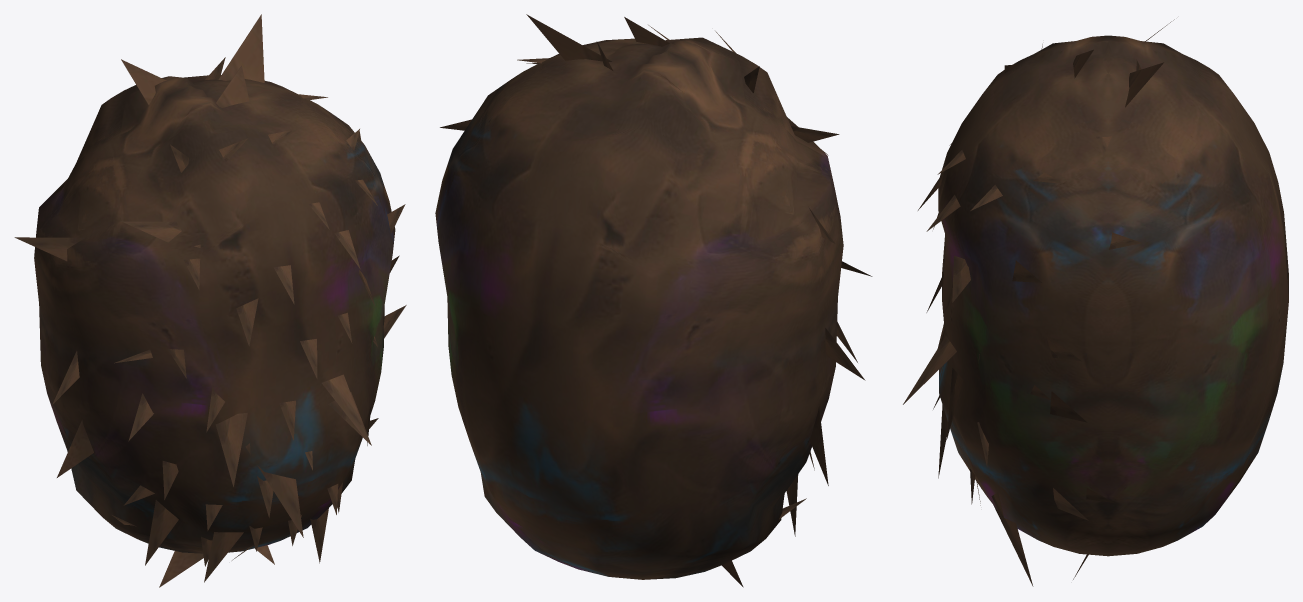
Rendered from mKiwiPourri.FBX.
The picture shows the model from 3 angles, left to right: view 1: azimuth 30°, elevation 25°; view 2: azimuth 150°, elevation 25°; view 3: azimuth 270°, elevation 25°; orthographic projection. The views are drawn at different scales.
Visible parts, largest first — view 1: Kiwi_Positif001; view 2: Kiwi_Positif001; view 3: Kiwi_Positif001.
Boxes of the visible parts, x1,y1,x2,y2 form: Kiwi_Positif001: [14, 14, 406, 587]; Kiwi_Positif001: [435, 14, 872, 587]; Kiwi_Positif001: [903, 19, 1288, 586].
Size of the model in its own units: 1.28 by 1.69 by 1.11.
